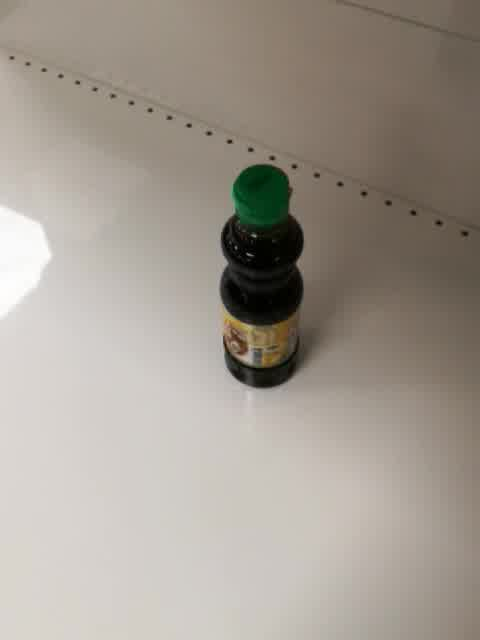cookingoil: (216, 161, 309, 393)
